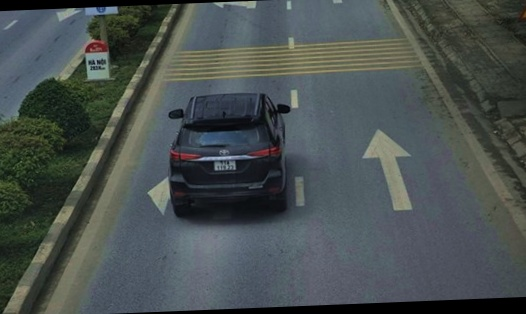Bien-so: (205, 154, 226, 169)
